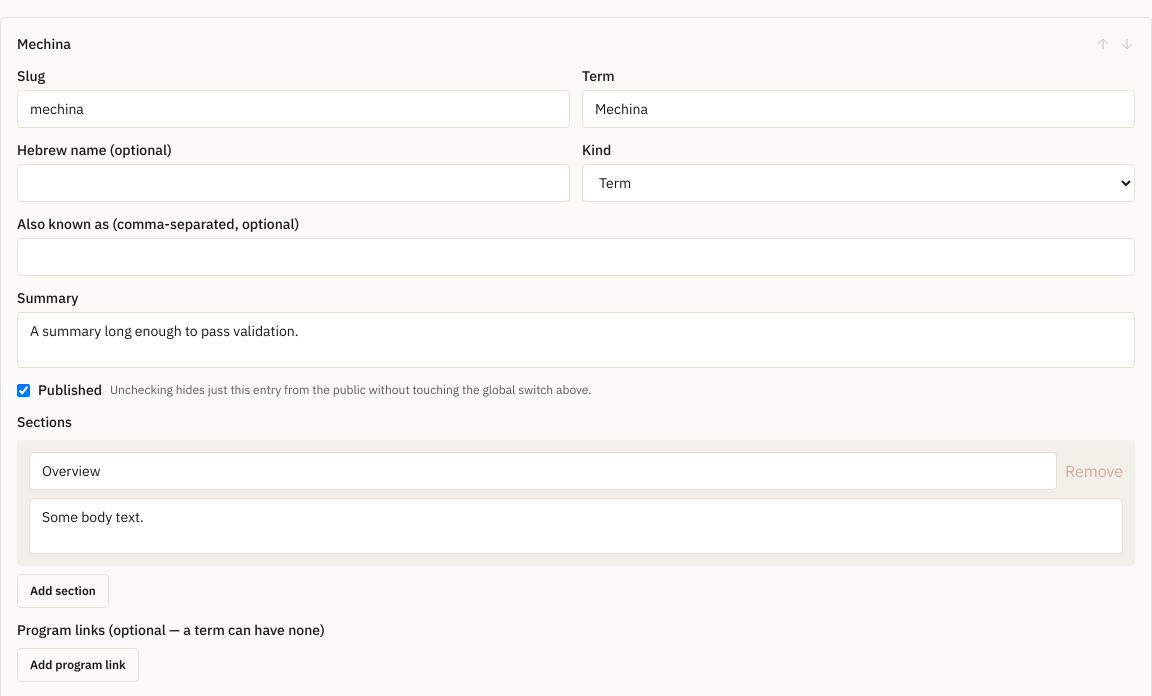
Test: GlossaryEntriesManager › a non-ok response surfaces its error on the entry that was saved, not only at the top of the form
Replace the text in the text box showing "A summary long enough to pass validation." with "Updated summary text goes here now." at (576, 340), box [17,312,1135,368]
(page scrolled)
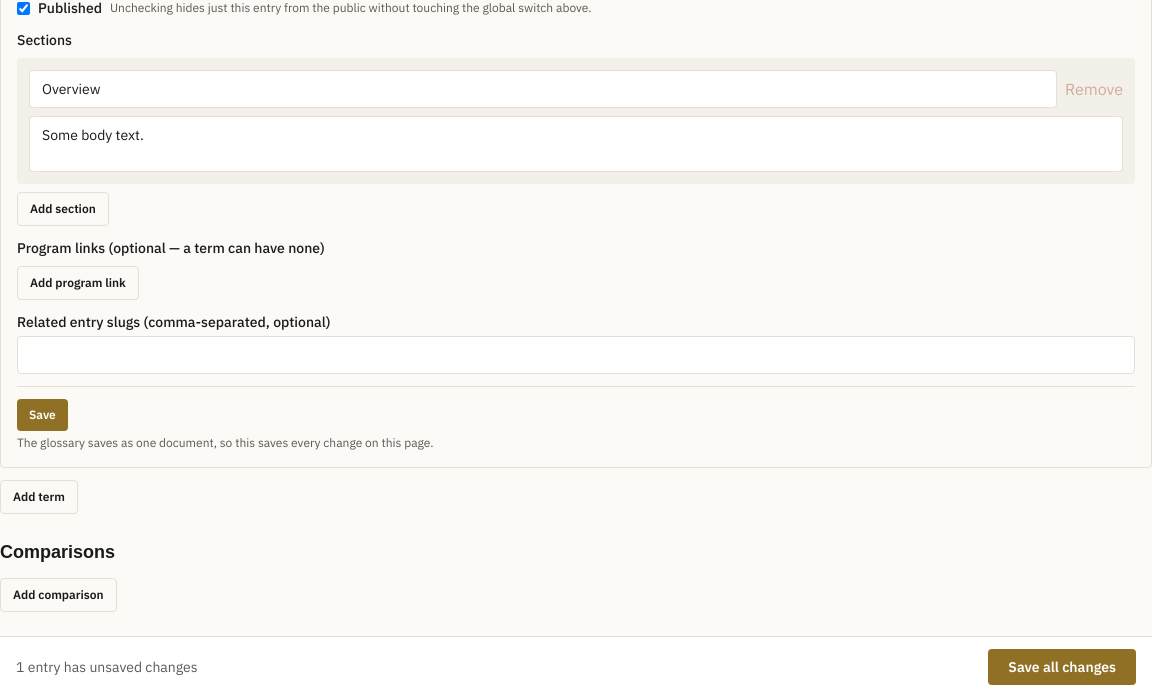
Click the button "Save" at (42, 415), box [17,399,68,431]
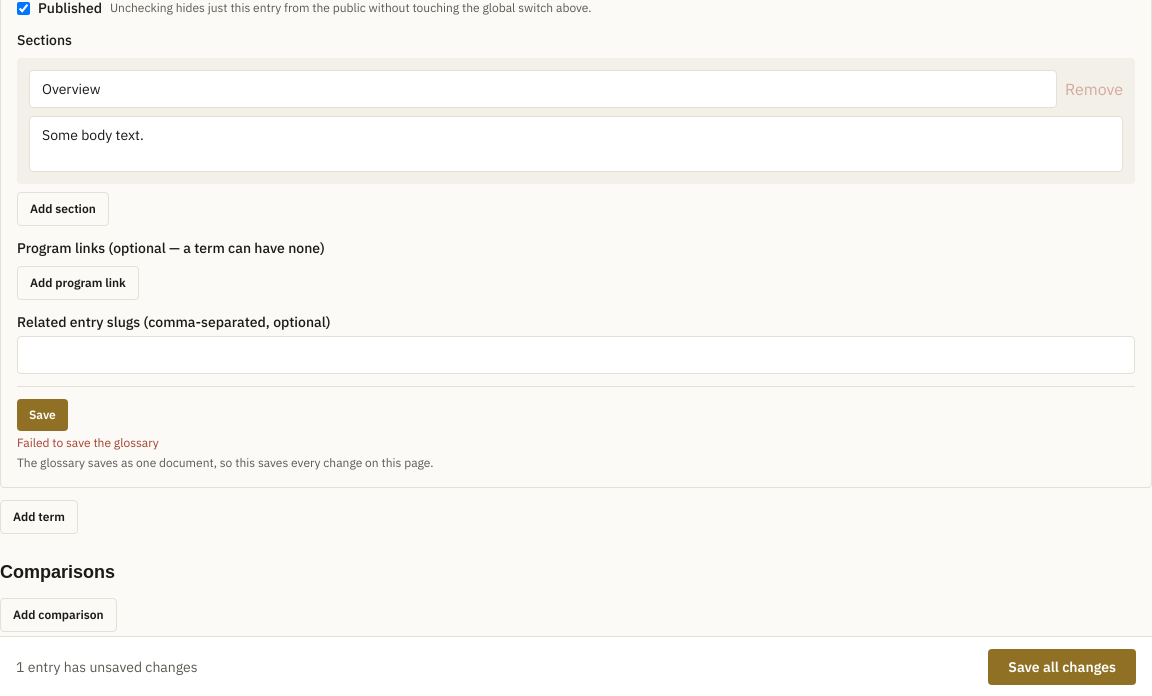
Expected: the text "Failed to save the glossary" is shown, [17,435,159,450]
